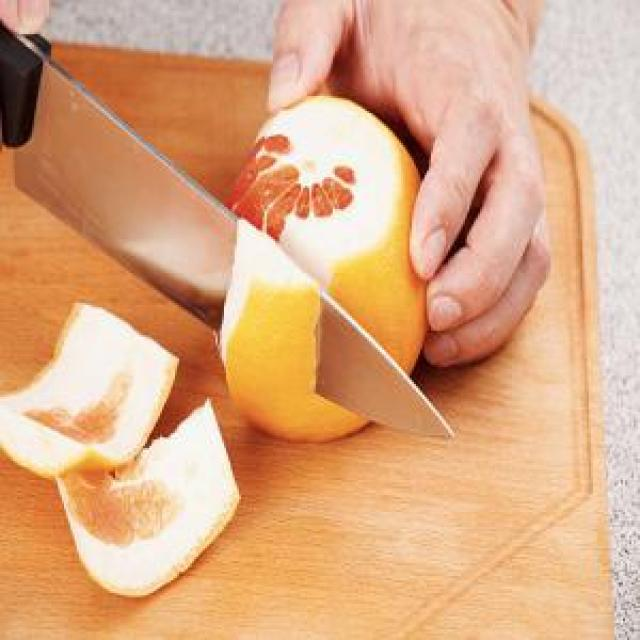knife: (0, 0, 461, 444)
